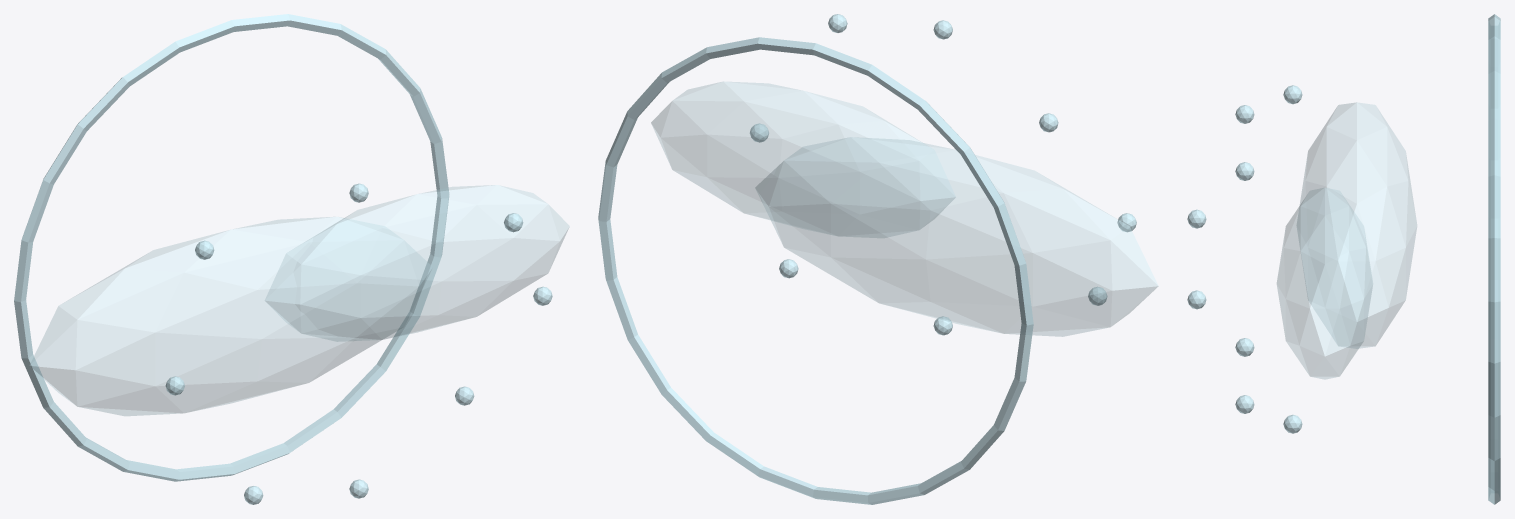
The model's file is 04_atmosphere.glb.
3 renders of one model, left to right at view 1: azimuth 30°, elevation 25°; view 2: azimuth 150°, elevation 25°; view 3: azimuth 270°, elevation 25°, orthographic. The views are drawn at different scales.
Visible parts, largest first — view 1: cloud_or_nebula_a, cloud_or_nebula_b, horizon_ring; view 2: cloud_or_nebula_a, cloud_or_nebula_b, horizon_ring; view 3: cloud_or_nebula_a, cloud_or_nebula_b, horizon_ring.
Boxes of the visible parts, x1,y1,x2,y2 form: cloud_or_nebula_a: [29, 217, 432, 415]; cloud_or_nebula_b: [265, 185, 569, 341]; horizon_ring: [14, 14, 449, 481]; cloud_or_nebula_a: [755, 137, 1158, 336]; cloud_or_nebula_b: [651, 81, 955, 237]; horizon_ring: [598, 37, 1033, 504]; cloud_or_nebula_a: [1297, 102, 1416, 348]; cloud_or_nebula_b: [1277, 188, 1372, 379]; horizon_ring: [1488, 14, 1500, 504].
Size of the model in its own units: 1.85 by 1.54 by 0.979.
